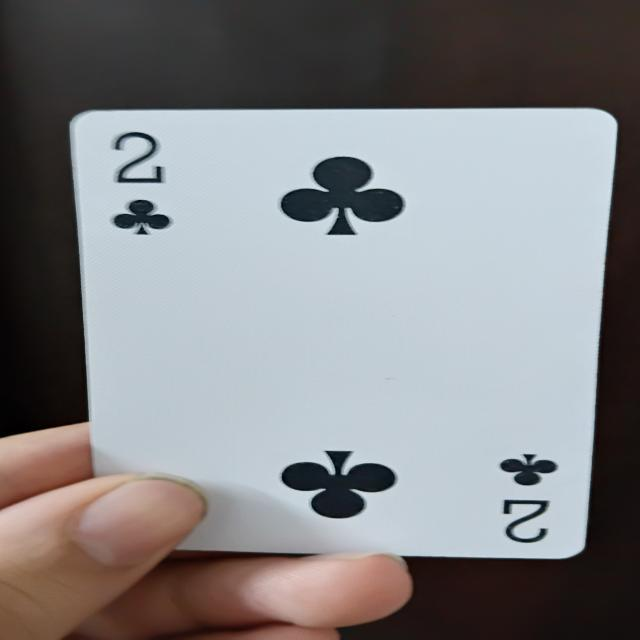2C: (67, 101, 604, 564)
